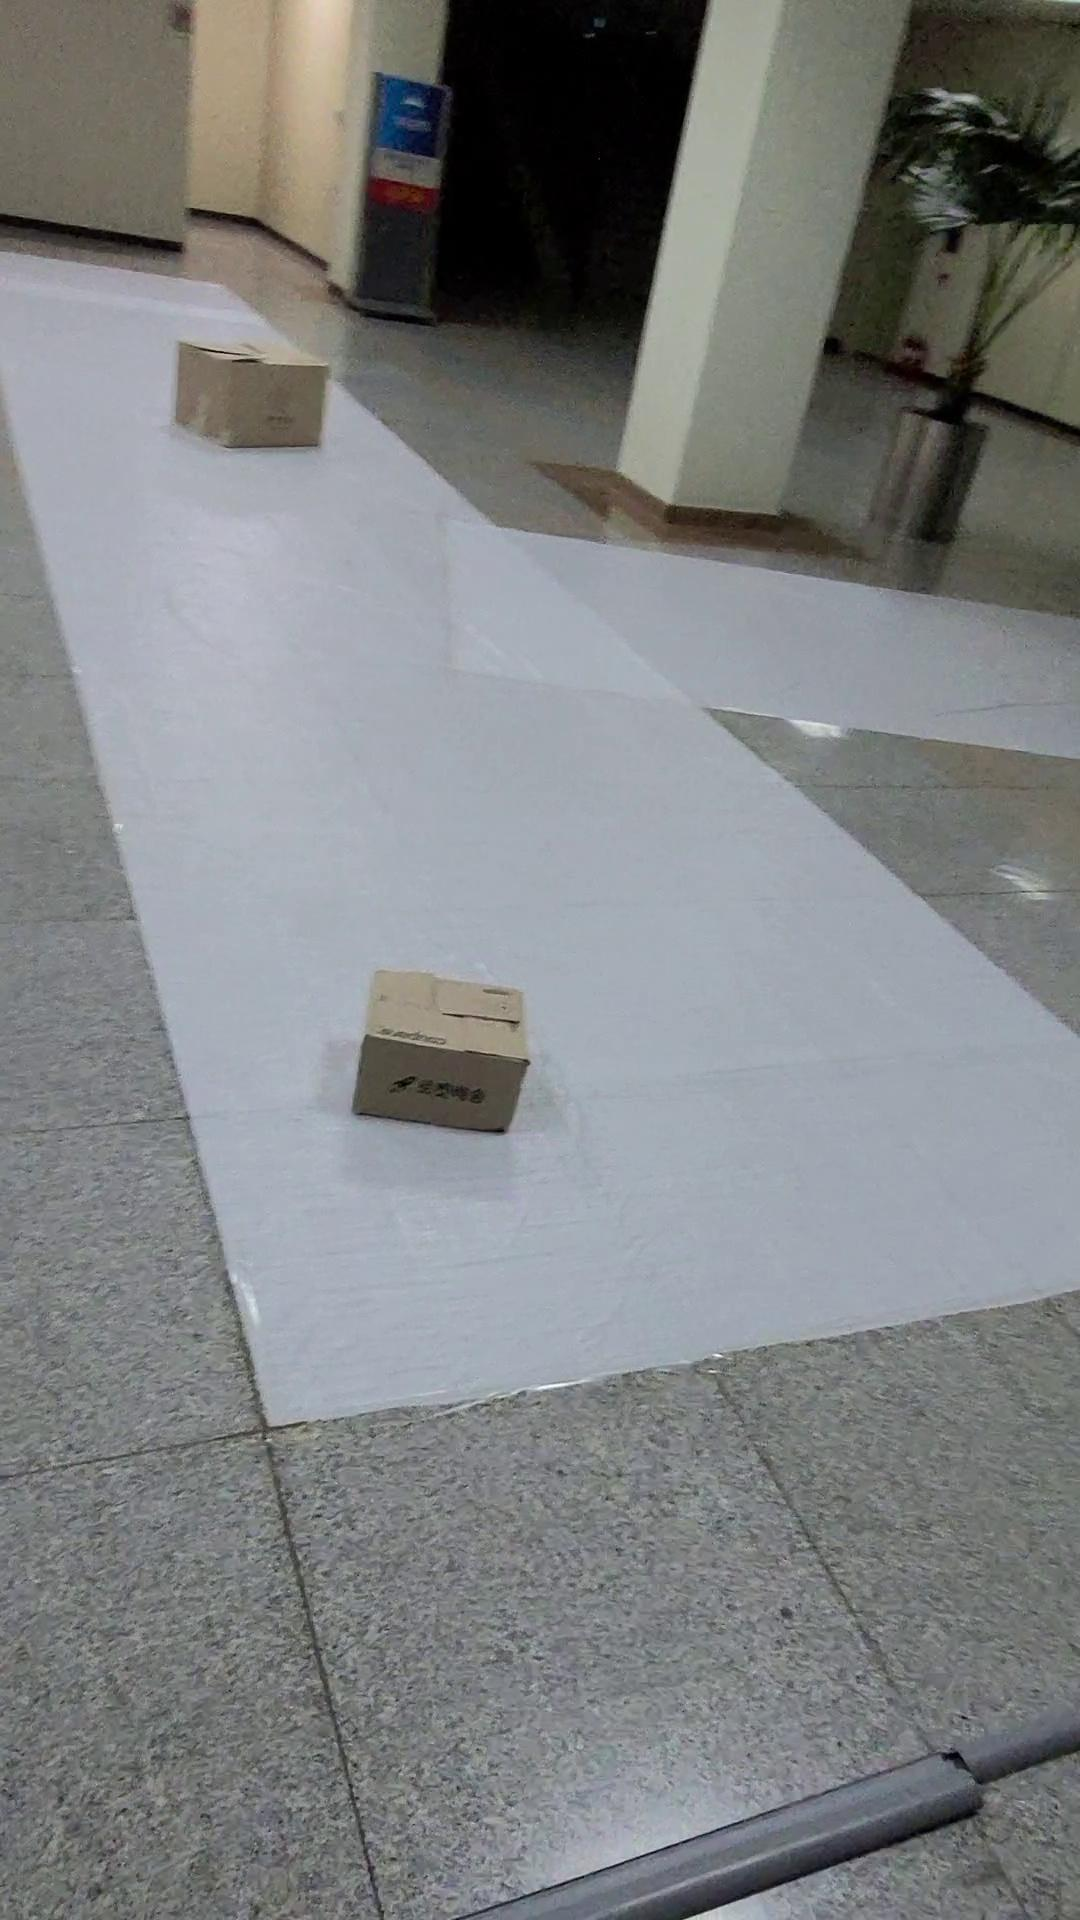Box: (336, 948, 564, 1153), (152, 320, 338, 469)
